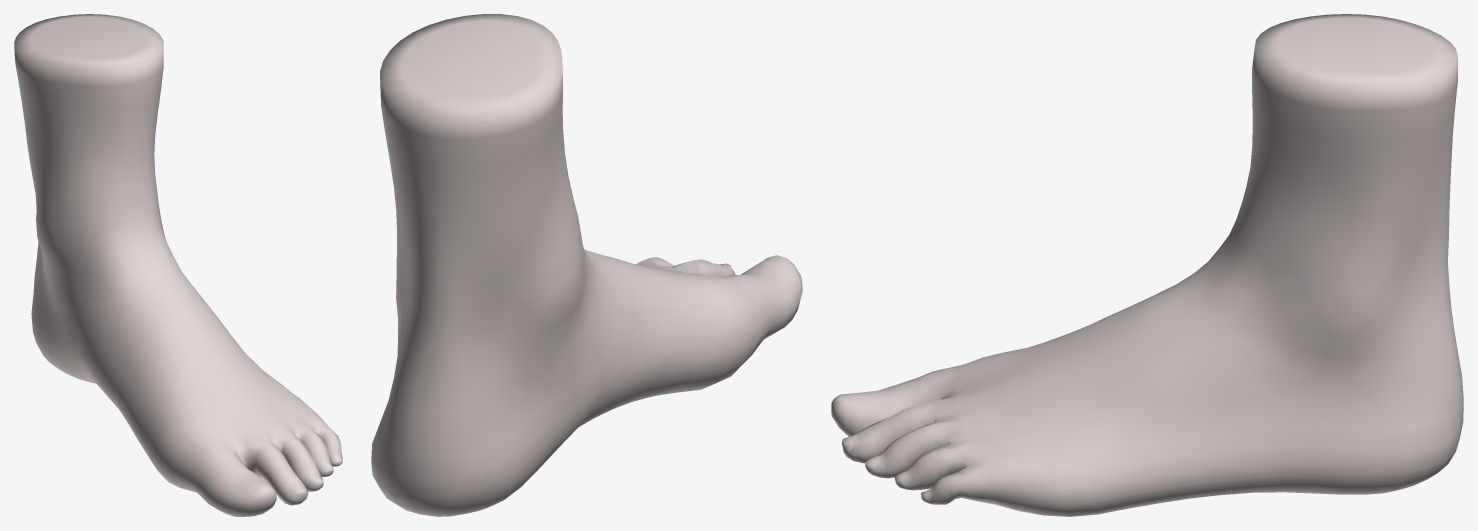
File: Leftfoot.glb
3 views of the same model, side by side, from view 1: azimuth 30°, elevation 25°; view 2: azimuth 150°, elevation 25°; view 3: azimuth 270°, elevation 25° (orthographic). The views are drawn at different scales.
Visible parts, largest first — view 1: Foot - Realistic; view 2: Foot - Realistic; view 3: Foot - Realistic.
Boxes of the visible parts, left/top/right/bottom form: Foot - Realistic: left=14, top=14, right=342, bottom=516; Foot - Realistic: left=371, top=14, right=802, bottom=516; Foot - Realistic: left=831, top=14, right=1463, bottom=516.
Bounding box in the file's own units: 0.2807 × 0.5484 × 0.7264.
Materials: 1 (1 with a texture image).
